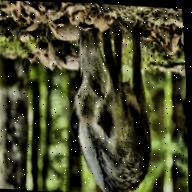boar: (67, 14, 162, 192)
